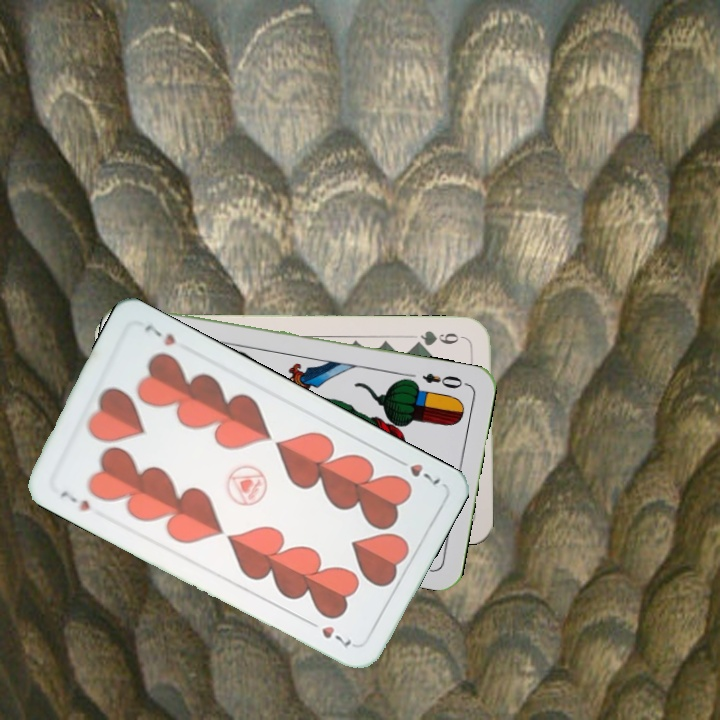EO: (418, 369, 470, 391)
G9: (409, 326, 468, 349)
H7: (390, 453, 443, 491), (56, 486, 93, 514)
